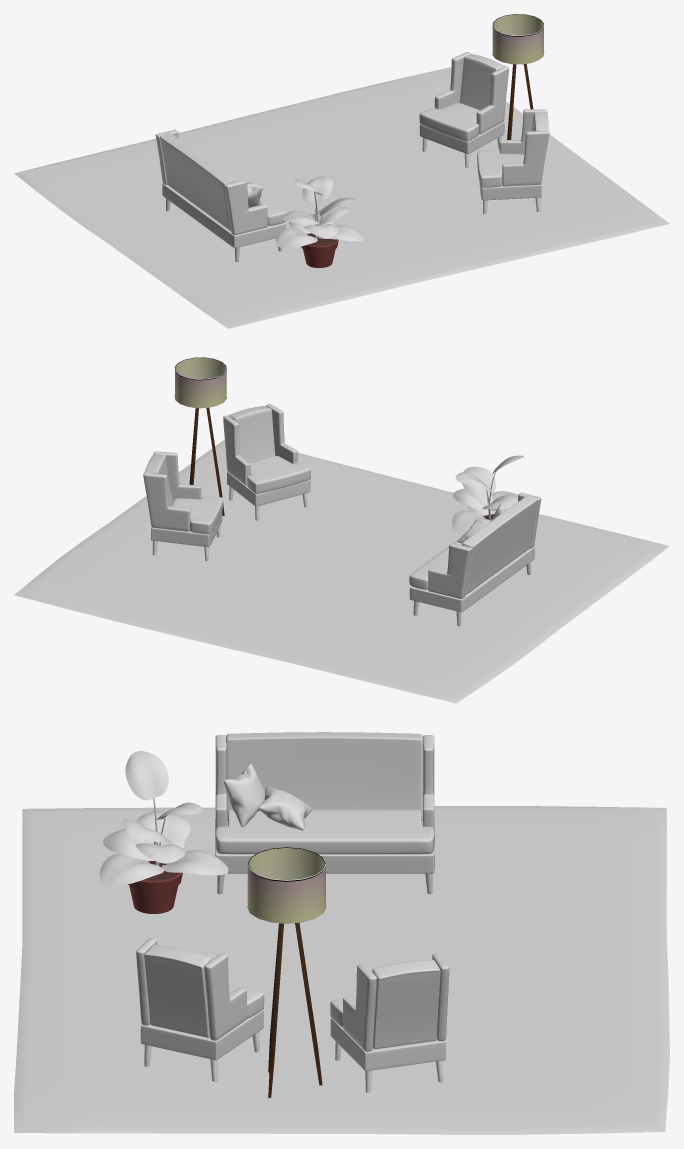
Rendered from smallRoom.fbx.
3 views of the same model, one above another, from view 1: azimuth 30°, elevation 25°; view 2: azimuth 150°, elevation 25°; view 3: azimuth 270°, elevation 25° (orthographic). The views are drawn at different scales.
Visible parts, largest first — view 1: grounRug, couch_studio, armchair_studio.001, armchair_studio, Planter, tripod lamp; view 2: grounRug, couch_studio, armchair_studio, armchair_studio.001, tripod lamp, Planter; view 3: grounRug, couch_studio, armchair_studio, armchair_studio.001, Planter, tripod lamp.
Boxes of the visible parts, x1=… form: grounRug: x1=14, y1=67, x2=669, y2=328; couch_studio: x1=155, y1=129, x2=286, y2=261; armchair_studio.001: x1=419, y1=52, x2=508, y2=167; armchair_studio: x1=477, y1=109, x2=549, y2=214; Planter: x1=276, y1=176, x2=363, y2=267; tripod lamp: x1=492, y1=14, x2=544, y2=139; grounRug: x1=14, y1=439, x2=669, y2=703; couch_studio: x1=409, y1=492, x2=541, y2=626; armchair_studio: x1=223, y1=404, x2=310, y2=520; armchair_studio.001: x1=143, y1=451, x2=222, y2=561; tripod lamp: x1=174, y1=357, x2=226, y2=515; Planter: x1=452, y1=455, x2=523, y2=533; grounRug: x1=14, y1=806, x2=669, y2=1134; couch_studio: x1=215, y1=732, x2=434, y2=894; armchair_studio: x1=136, y1=938, x2=264, y2=1081; armchair_studio.001: x1=330, y1=953, x2=449, y2=1092; Planter: x1=99, y1=751, x2=228, y2=913; tripod lamp: x1=247, y1=847, x2=326, y2=1098.
Size of what is drawn, in the model's own units: 5.23 by 1.67 by 4.41.
